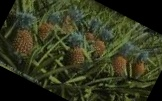Pineapple: (13, 13, 34, 55), (68, 34, 84, 64)
